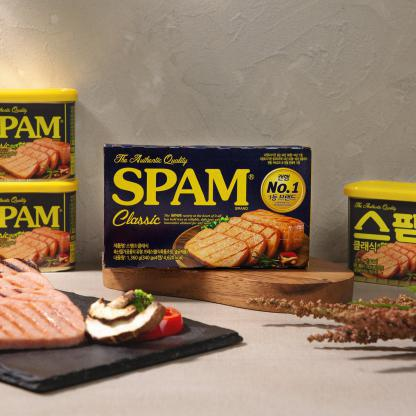spam: (102, 145, 304, 268), (344, 173, 416, 288), (0, 185, 76, 273), (0, 90, 75, 179)
